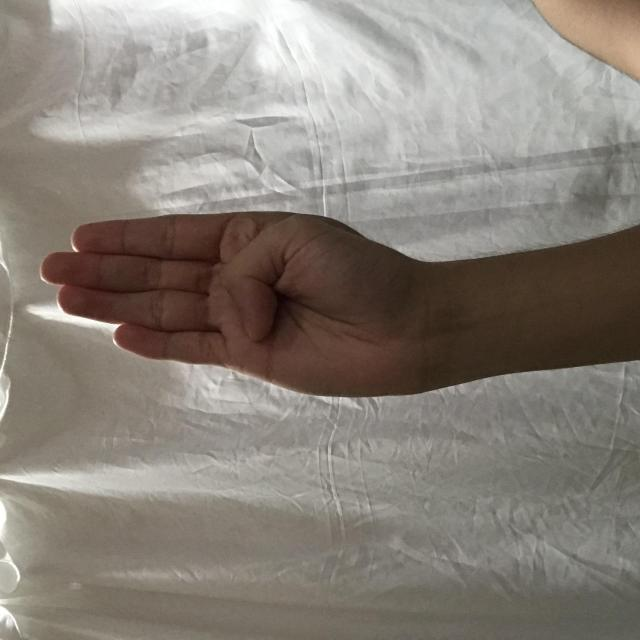B: (242, 38, 428, 414)
